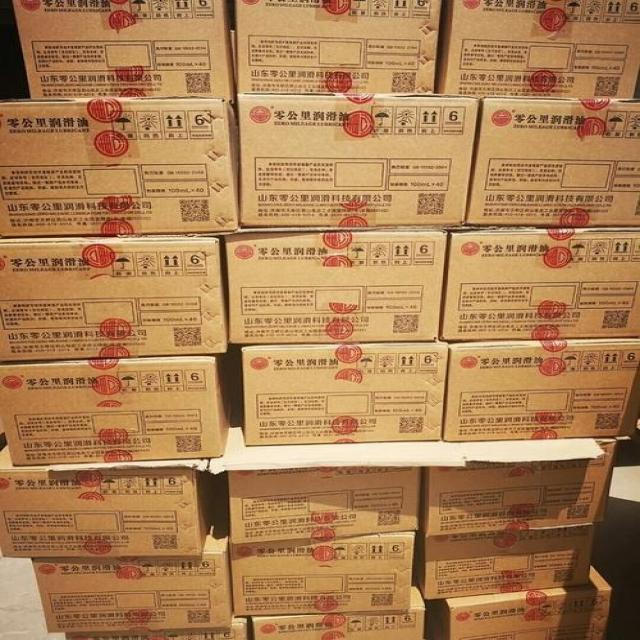box: (234, 96, 479, 229), (4, 98, 240, 235), (0, 232, 230, 362), (2, 354, 231, 466), (224, 228, 446, 342), (0, 443, 216, 557), (464, 94, 639, 225), (27, 524, 235, 634), (441, 226, 639, 340), (242, 340, 451, 447), (11, 1, 236, 97), (439, 338, 639, 440), (435, 0, 639, 96), (233, 2, 443, 94), (417, 442, 619, 534), (229, 531, 418, 616), (226, 470, 424, 546), (413, 526, 596, 598), (444, 568, 607, 639), (249, 581, 426, 638), (66, 613, 249, 639)
